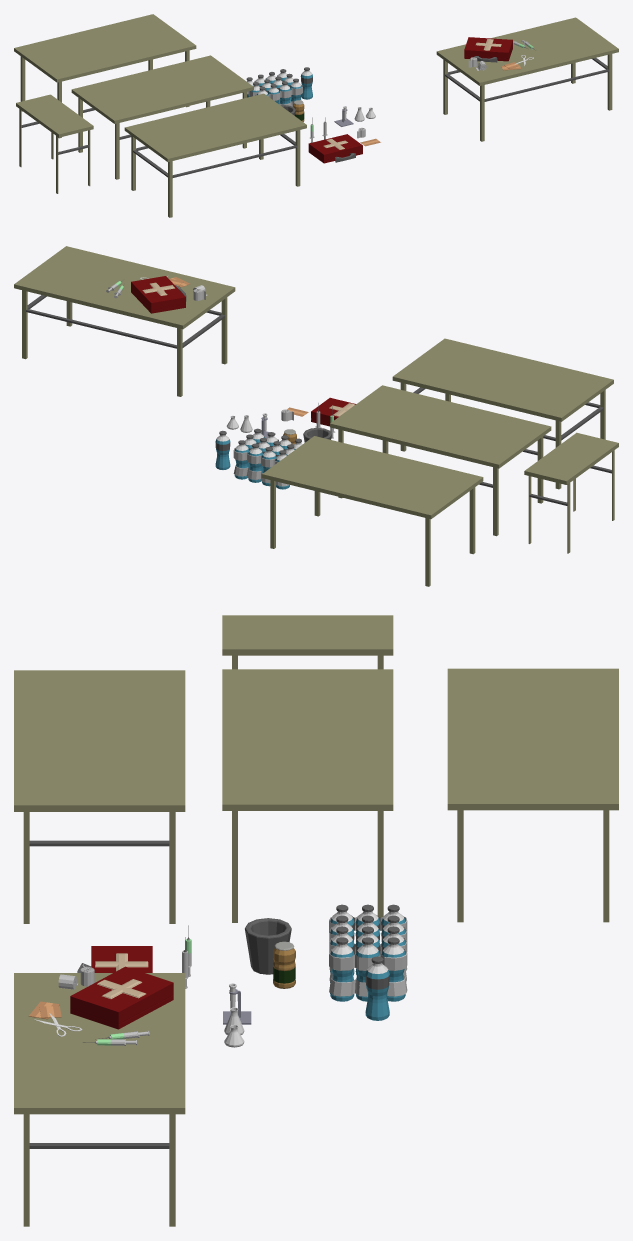
Rendered from F2M4MARINE_ENV_ASSETS_PROPS.fbx.
3 views of the same model, one above another, from view 1: azimuth 30°, elevation 25°; view 2: azimuth 150°, elevation 25°; view 3: azimuth 270°, elevation 25° (orthographic). The views are drawn at different scales.
Parts seen in each view (by area): view 1: Cube.001, Cube.003, Cube.002, Cube.005, Cube.004, waterbottles_joined, Cube, Cube.006, waterbottle; view 2: Cube.002, Cube.001, Cube.003, Cube.005, Cube.004, waterbottles_joined, Cube.006, Cube, waterbottle; view 3: Cube.001, Cube.002, Cube.003, Cube.005, Cube.004, waterbottles_joined, Cube.006, trashcan, Cube, waterbottle, appelmoes.001.
Part boxes in pixels (left/top/right/bottom): Cube.001: left=124, top=93, right=306, bottom=217; Cube.003: left=71, top=55, right=253, bottom=179; Cube.002: left=14, top=14, right=196, bottom=138; Cube.005: left=436, top=17, right=618, bottom=141; Cube.004: left=16, top=94, right=93, bottom=193; waterbottles_joined: left=246, top=69, right=302, bottom=106; Cube: left=308, top=134, right=362, bottom=163; Cube.006: left=464, top=37, right=512, bottom=62; waterbottle: left=300, top=67, right=312, bottom=99; Cube.002: left=262, top=436, right=483, bottom=586; Cube.001: left=392, top=338, right=613, bottom=489; Cube.003: left=330, top=385, right=551, bottom=536; Cube.005: left=14, top=246, right=235, bottom=396; Cube.004: left=524, top=432, right=618, bottom=553; waterbottles_joined: left=233, top=428, right=302, bottom=489; Cube.006: left=131, top=276, right=186, bottom=313; Cube: left=311, top=397, right=355, bottom=426; waterbottle: left=215, top=430, right=230, bottom=469; Cube.001: left=14, top=670, right=185, bottom=923; Cube.002: left=447, top=668, right=618, bottom=922; Cube.003: left=222, top=669, right=393, bottom=922; Cube.005: left=14, top=973, right=185, bottom=1226; Cube.004: left=222, top=615, right=393, bottom=669; waterbottles_joined: left=329, top=904, right=407, bottom=1001; Cube.006: left=70, top=966, right=173, bottom=1029; trashcan: left=245, top=918, right=291, bottom=974; Cube: left=77, top=946, right=152, bottom=972; waterbottle: left=365, top=956, right=389, bottom=1020; appelmoes.001: left=273, top=941, right=295, bottom=988.
Bounding box in the file's own units: 1361 × 184 × 707.
